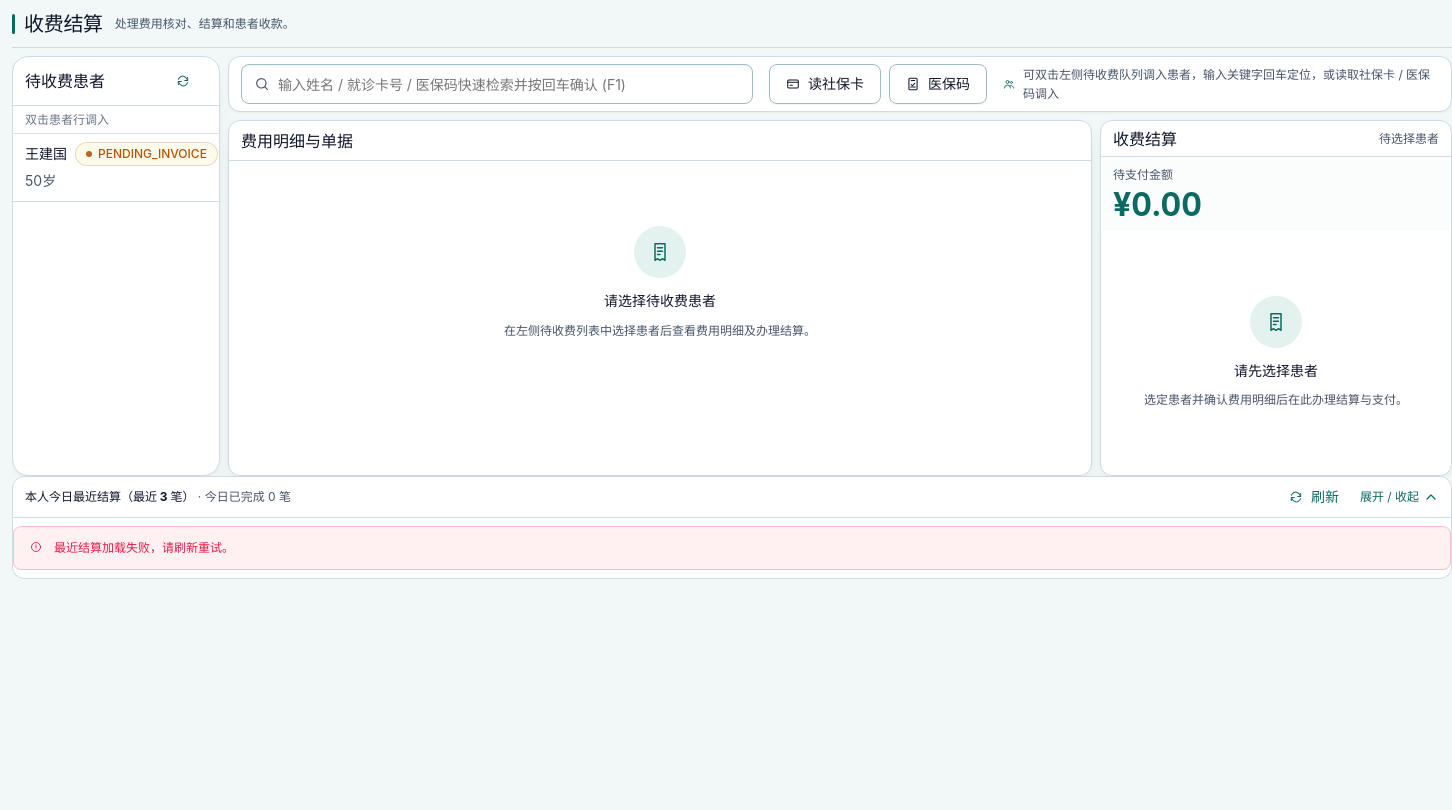
Test: BillingWorkspace deep link › defaults to medical-insurance settlement for encounters registered with insurance
Step 1. Double-click the button "王建国 PENDING_INVOICE 50岁" → (116, 168), box [13, 134, 219, 202]
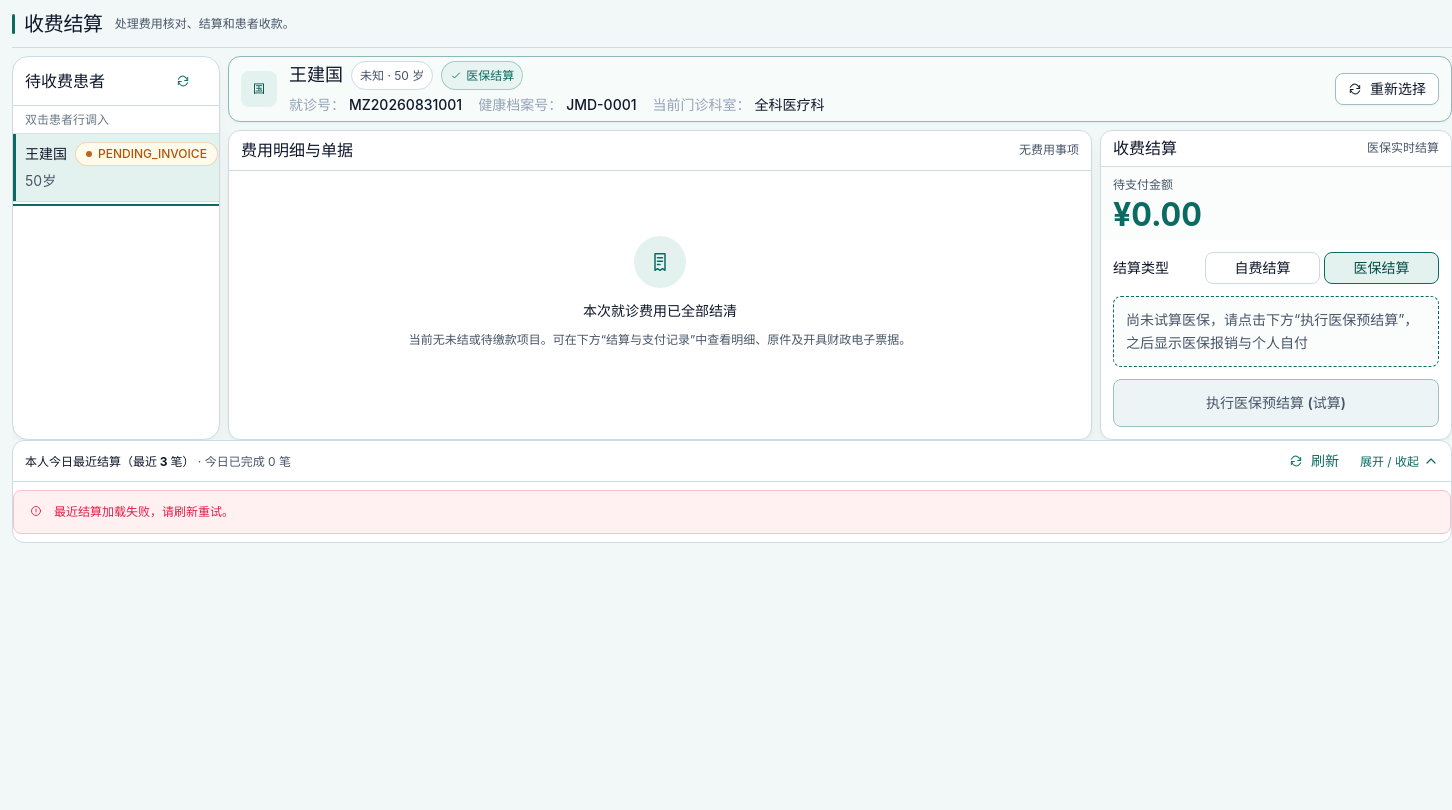
expect the text "医保结算" is shown: met, box [441, 61, 523, 90]
